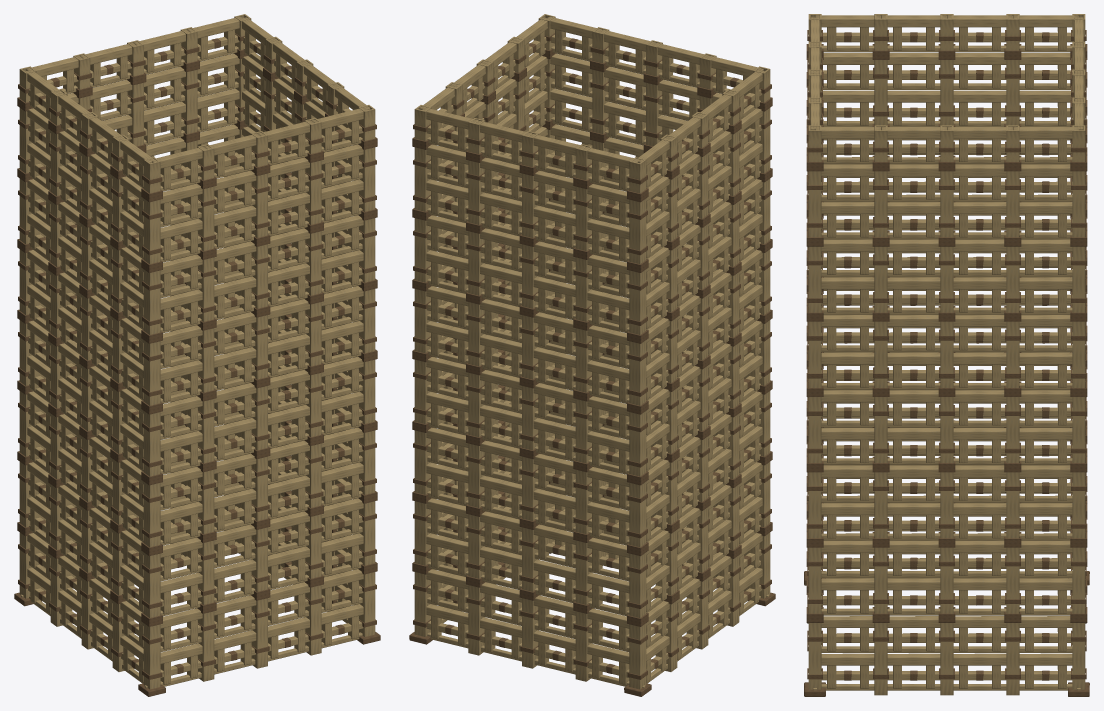
3 renders of one model, left to right at view 1: azimuth 30°, elevation 25°; view 2: azimuth 150°, elevation 25°; view 3: azimuth 270°, elevation 25°, orthographic. The views are drawn at different scales.
Visible parts, largest first — view 1: Tier 0 side 0 post 0, Tier 1 side 0 post 0, Tier 4 side 0 post 0, Tier 2 side 0 post 0, Tier 5 side 0 post 0, Tier 3 side 0 post 0, Tier 6 side 0 post 0, Tier 0 side 0 post 1, Tier 0 side 0 post 3, Tier 0 side 0 post 2, Tier 0 side 1 post 0, Tier 1 side 1 post 0 (+58 smaller); view 2: Tier 0 side 3 post 0, Tier 1 side 3 post 0, Tier 4 side 3 post 0, Tier 5 side 3 post 0, Tier 3 side 3 post 0, Tier 6 side 3 post 0, Tier 2 side 3 post 0, Tier 0 side 2 post 3, Tier 0 side 2 post 1, Tier 0 side 2 post 2, Tier 0 side 2 post 0, Tier 4 side 2 post 3 (+59 smaller); view 3: Tier 0 side 1 post 1, Tier 0 side 1 post 2, Tier 0 side 1 post 3, Tier 1 side 1 post 1, Tier 1 side 1 post 2, Tier 1 side 1 post 3, Tier 2 side 1 post 1, Tier 2 side 1 post 2, Tier 2 side 1 post 3, Tier 4 side 1 post 1, Tier 4 side 1 post 2, Tier 4 side 1 post 3 (+98 smaller).
Part boxes in pixels (<box>): Tier 0 side 0 post 0: <box>143,623,160,689</box>; Tier 1 side 0 post 0: <box>143,552,160,617</box>; Tier 4 side 0 post 0: <box>143,340,160,405</box>; Tier 2 side 0 post 0: <box>143,482,160,547</box>; Tier 5 side 0 post 0: <box>143,269,160,334</box>; Tier 3 side 0 post 0: <box>143,411,160,476</box>; Tier 6 side 0 post 0: <box>143,198,160,263</box>; Tier 0 side 0 post 1: <box>198,611,214,681</box>; Tier 0 side 0 post 3: <box>305,585,321,655</box>; Tier 0 side 0 post 2: <box>251,598,267,668</box>; Tier 0 side 1 post 0: <box>359,572,375,636</box>; Tier 1 side 1 post 0: <box>359,501,375,565</box>; Tier 0 side 3 post 0: <box>629,623,646,689</box>; Tier 1 side 3 post 0: <box>629,552,646,617</box>; Tier 4 side 3 post 0: <box>629,340,646,405</box>; Tier 5 side 3 post 0: <box>629,269,646,334</box>; Tier 3 side 3 post 0: <box>629,411,646,476</box>; Tier 6 side 3 post 0: <box>629,198,646,263</box>; Tier 2 side 3 post 0: <box>629,482,646,547</box>; Tier 0 side 2 post 3: <box>575,611,592,681</box>; Tier 0 side 2 post 1: <box>468,585,484,655</box>; Tier 0 side 2 post 2: <box>522,598,538,668</box>; Tier 0 side 2 post 0: <box>414,572,431,636</box>; Tier 4 side 2 post 3: <box>575,328,592,392</box>; Tier 0 side 1 post 1: <box>874,623,887,695</box>; Tier 0 side 1 post 2: <box>940,623,953,695</box>; Tier 0 side 1 post 3: <box>1006,623,1019,695</box>; Tier 1 side 1 post 1: <box>874,547,887,613</box>; Tier 1 side 1 post 2: <box>940,547,953,613</box>; Tier 1 side 1 post 3: <box>1006,547,1019,613</box>; Tier 2 side 1 post 1: <box>874,472,887,538</box>; Tier 2 side 1 post 2: <box>940,472,953,538</box>; Tier 2 side 1 post 3: <box>1006,472,1019,538</box>; Tier 4 side 1 post 1: <box>874,321,887,387</box>; Tier 4 side 1 post 2: <box>940,321,953,387</box>; Tier 4 side 1 post 3: <box>1006,321,1019,387</box>.
Bounding box in the file's own units: 1.95 × 4.25 × 1.95.
2 materials, 2 textured.
